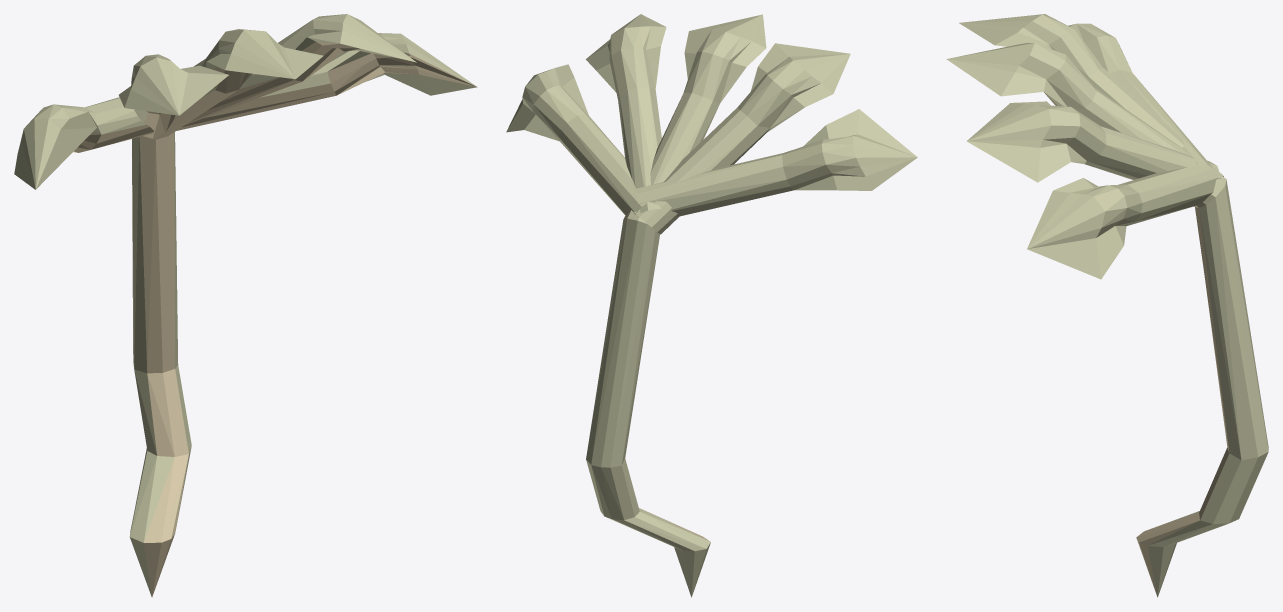
File: snake.fbx
The picture shows the model from 3 angles, left to right: view 1: azimuth 30°, elevation 25°; view 2: azimuth 150°, elevation 25°; view 3: azimuth 270°, elevation 25°; orthographic projection. The views are drawn at different scales.
Visible parts, largest first — view 1: snake; view 2: snake; view 3: snake.
Part boxes in pixels (x1,y1,x2,y2): snake: [14, 14, 477, 597]; snake: [506, 14, 917, 597]; snake: [946, 14, 1268, 597].
Bounding box in the file's own units: 22.74 × 29.71 × 15.32.
